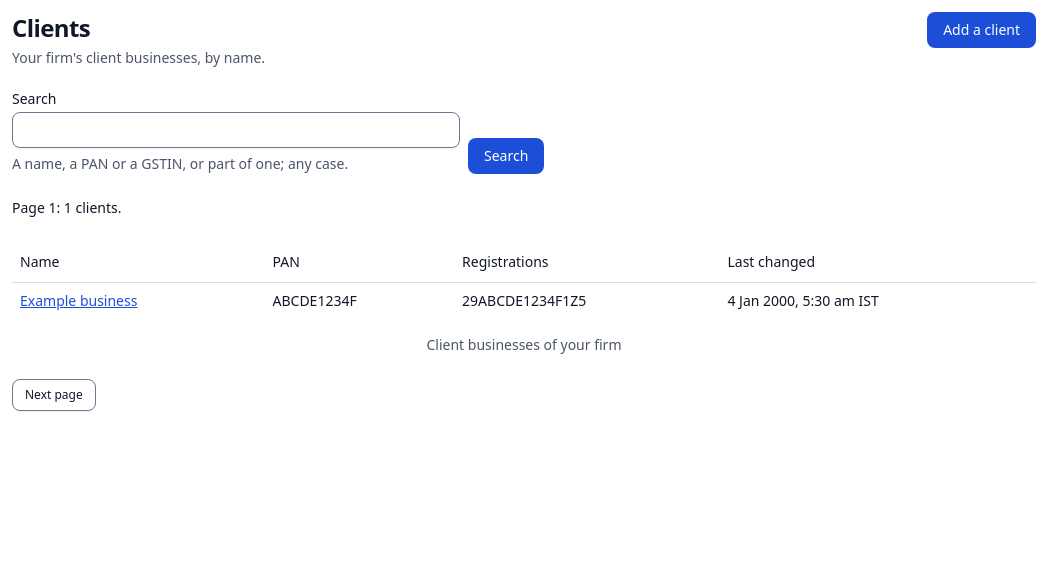
Test: BusinessDirectory › keeps the last page and shows the problem when a read fails
Step 1. Click the button "Search" → (506, 156), box [468,138,544,174]
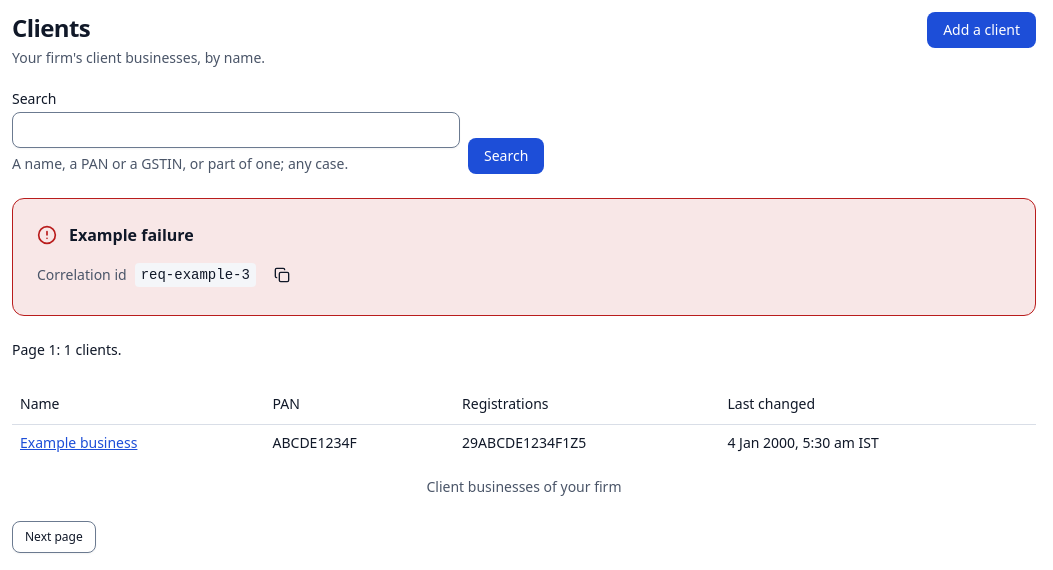
Expected: the link "Example business" is shown, [20,432,137,452]
Expected: the text "Example failure" is shown, [69,224,194,246]
